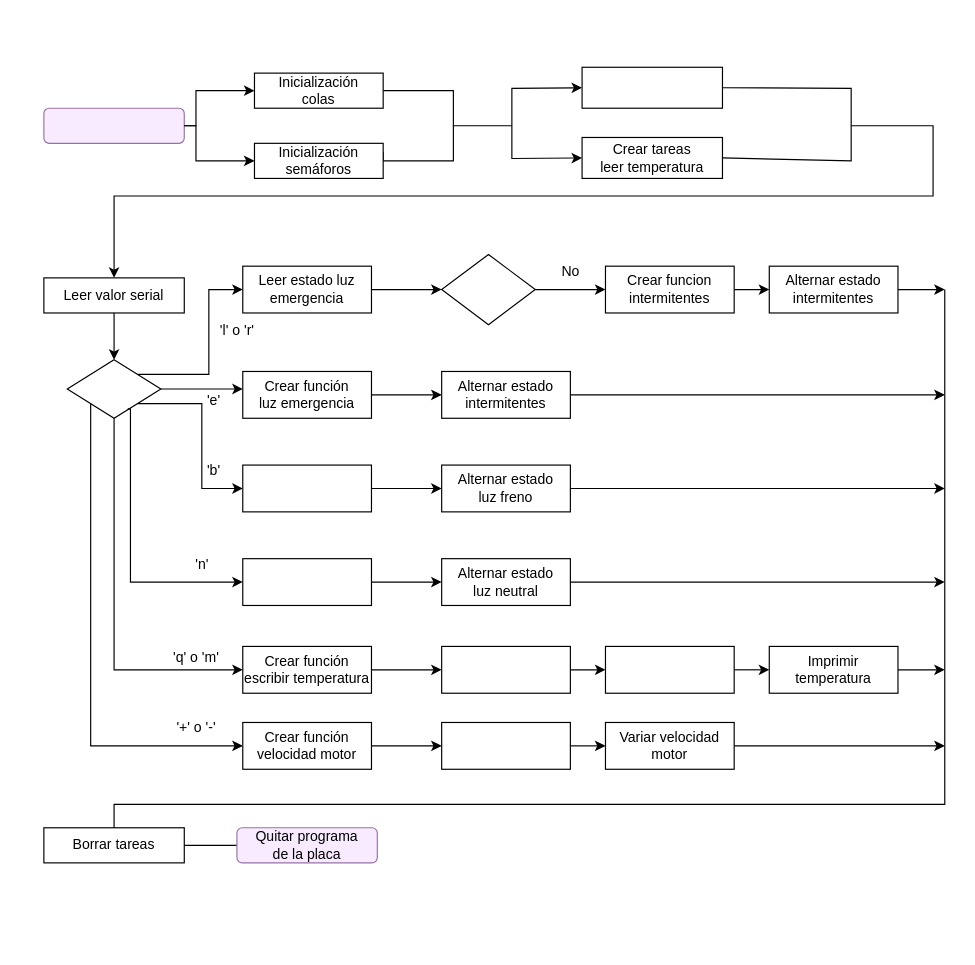
Image size: 975x965. Some labels were removed from this diagram. Each missing label, with the centre of its shape:
"Calcular intervalo velocidad" belongs at [505,745].
"Calcular temperatura real" belongs at [669,669].
"Carga del programa en la placa" belongs at [113,125].
"Crear función luz freno" belongs at [306,488].
"Crear función luz neutral" belongs at [306,581].
"Crear tarea serial" belongs at [651,87].
"Encendida" belongs at [488,289].
"Leer temperatura actual" belongs at [505,669].
"value_ serial" belongs at [113,388].
